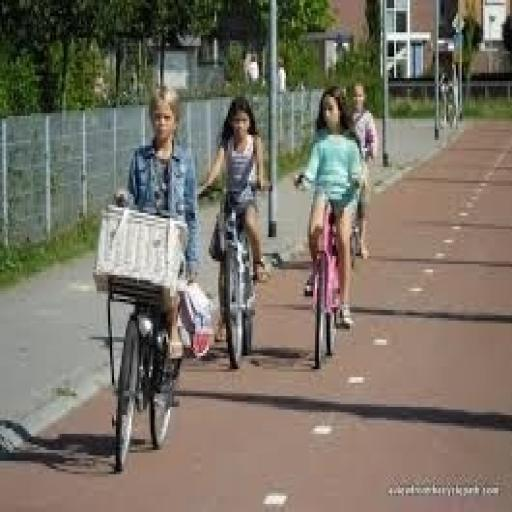cycling: (118, 84, 205, 404), (195, 94, 274, 345), (292, 84, 369, 334)
